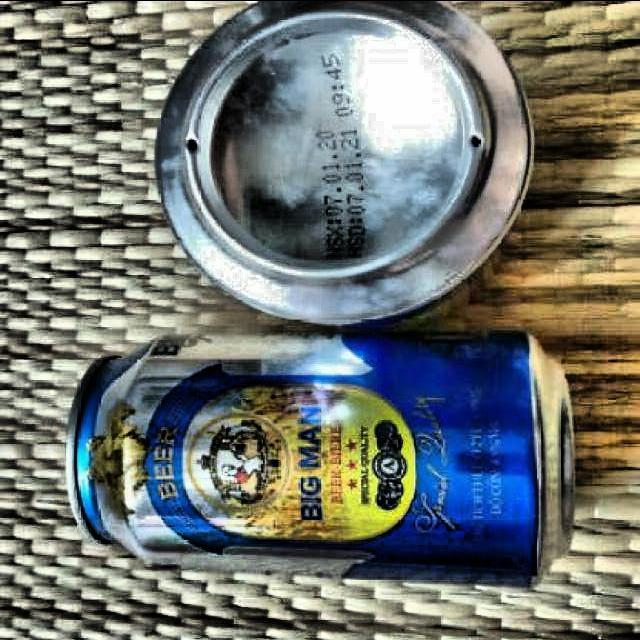Aluminum Can: (57, 326, 584, 595), (149, 0, 536, 324)
